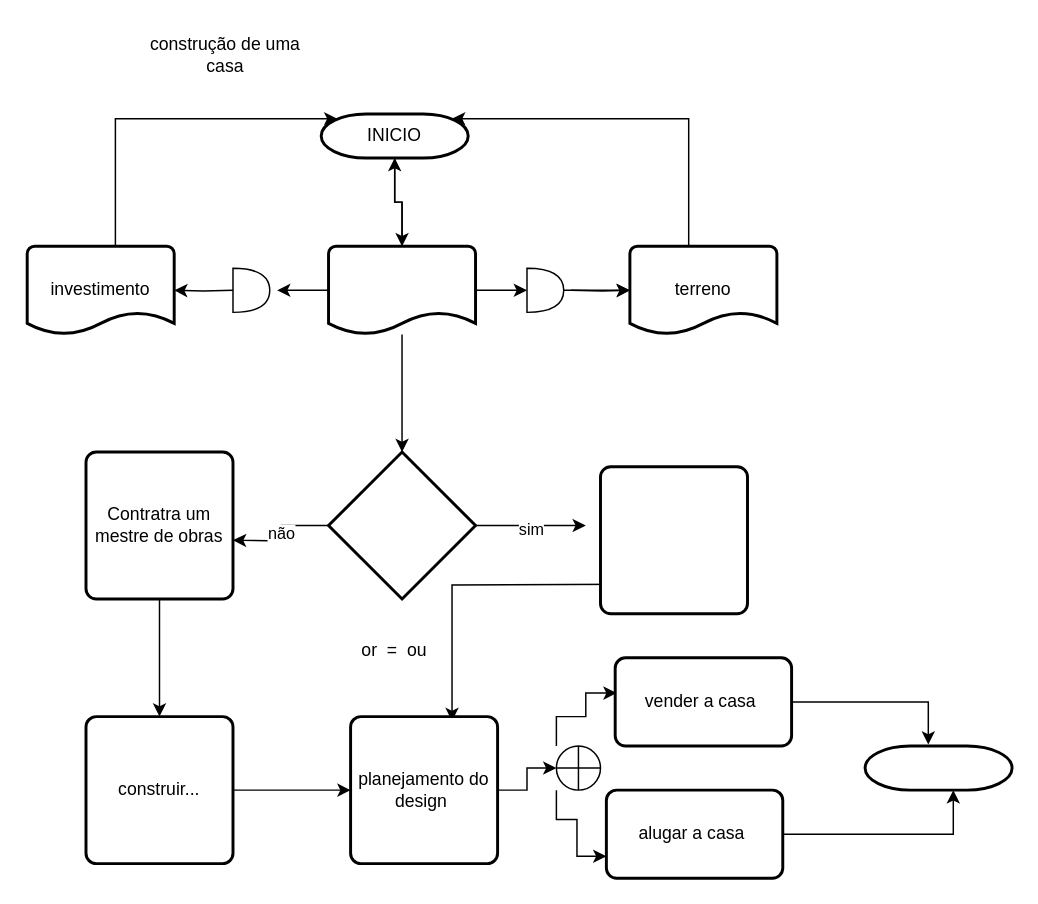
Image size: 1038x904. Some labels were removed from this diagram. The centre of each missing label's shape, as x and y in pixels:
Aprovação do projeto: the point at 401,289
contratar construtura?: the point at 401,525
contruindo...: the point at 673,539
fim: the point at 938,767
